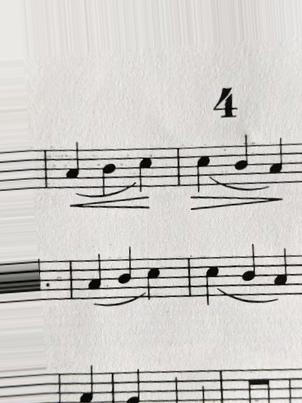note: (237, 239, 261, 300), (202, 250, 224, 309), (140, 251, 164, 305), (61, 139, 86, 190), (192, 142, 216, 195), (269, 247, 292, 299), (229, 132, 251, 186), (266, 136, 288, 188), (135, 143, 157, 194), (114, 245, 134, 300), (98, 145, 117, 198), (85, 251, 105, 301)
